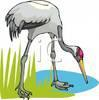bird: (3, 1, 89, 100)
